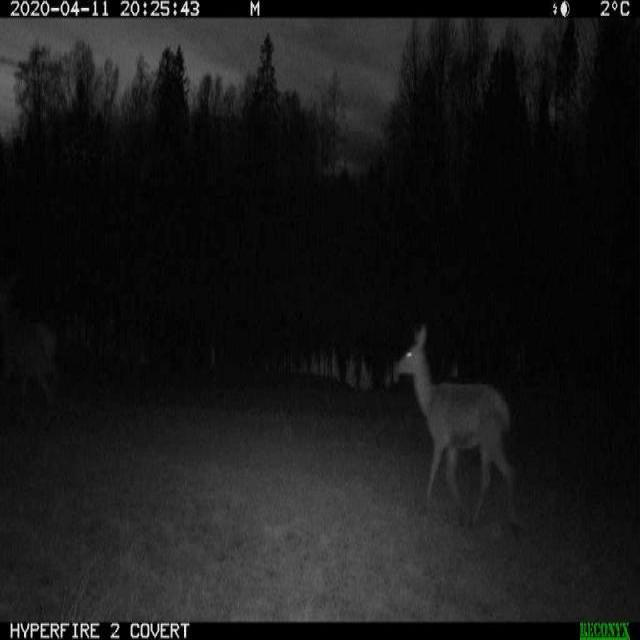deer: (384, 307, 516, 529)
